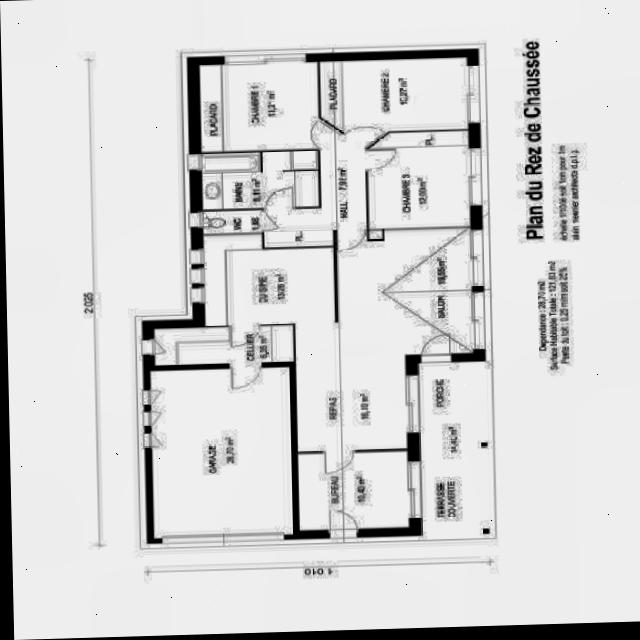room: (203, 226, 477, 454), (150, 366, 292, 538), (320, 56, 468, 148), (199, 60, 341, 152), (262, 132, 367, 247), (367, 130, 470, 228), (297, 450, 410, 530), (201, 150, 319, 209), (154, 324, 294, 365), (203, 209, 262, 233)
